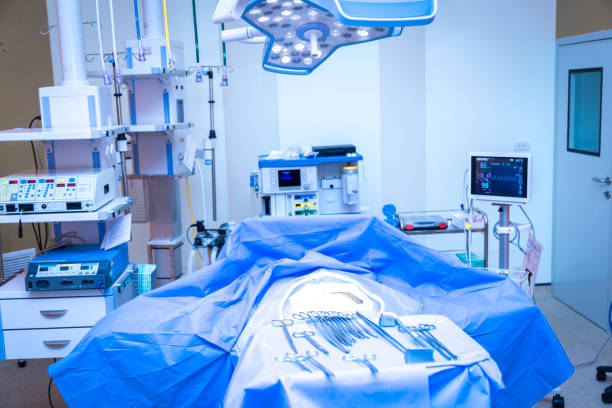bedside_monitor: (466, 150, 533, 205), (267, 168, 312, 195)
door_handle: (590, 175, 612, 186)
electrosurgical_unit: (24, 245, 130, 290), (3, 168, 109, 212)
handle: (41, 339, 72, 349), (39, 309, 70, 319)
iv_pole: (85, 51, 134, 225), (194, 63, 234, 222)
operating_bed: (86, 214, 542, 408)
surgical_instrument: (271, 307, 458, 379)
surgical_light: (242, 1, 402, 76)
utility_cart: (394, 210, 491, 268)
